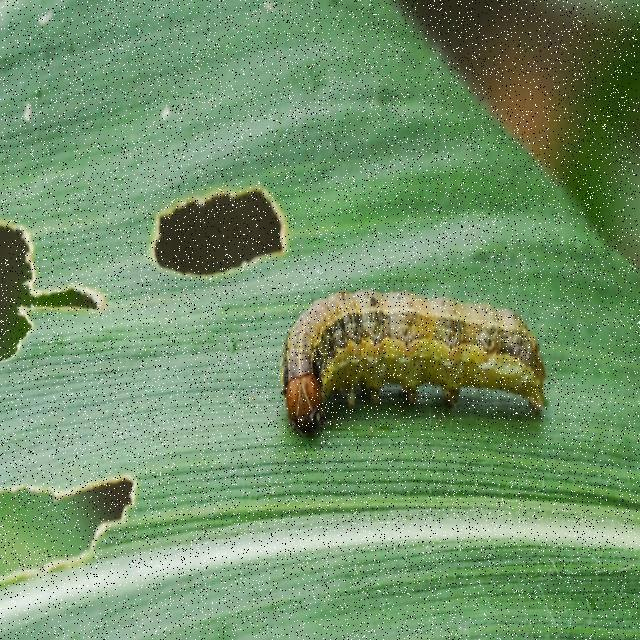army worm: (251, 239, 569, 486)
